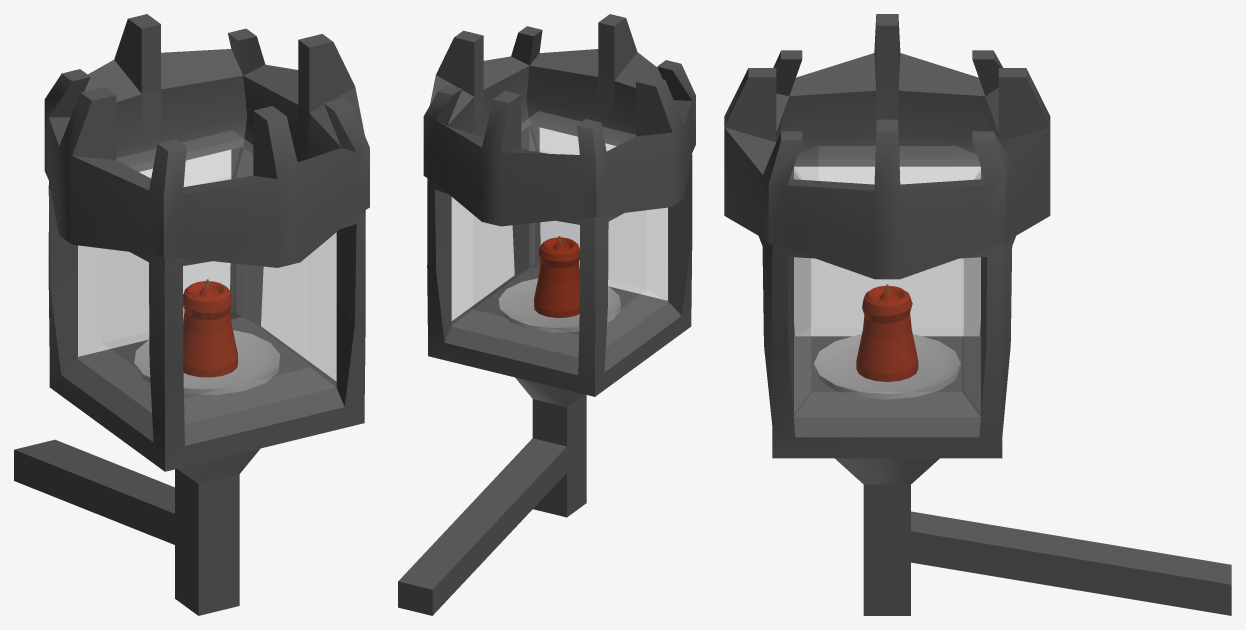
Rendered from lamp.fbx.
3 views of the same model, side by side, from view 1: azimuth 30°, elevation 25°; view 2: azimuth 150°, elevation 25°; view 3: azimuth 270°, elevation 25° (orthographic). The views are drawn at different scales.
Visible parts, largest first — view 1: torch, torch_glass, candle, dish; view 2: torch, torch_glass, candle, dish; view 3: torch, torch_glass, dish, candle.
Boxes of the visible parts, box(x1,y1,x2,y2) form: torch: box(14, 14, 369, 615); torch_glass: box(77, 130, 336, 423); candle: box(183, 281, 237, 377); dish: box(134, 330, 280, 394); torch: box(398, 14, 695, 615); torch_glass: box(452, 111, 667, 356); candle: box(534, 237, 579, 317); dish: box(498, 278, 620, 332); torch: box(724, 14, 1231, 615); torch_glass: box(790, 146, 984, 416); dish: box(814, 334, 960, 399); candle: box(856, 285, 918, 381).
Size of the model in its own units: 94.69 by 171 by 147.
